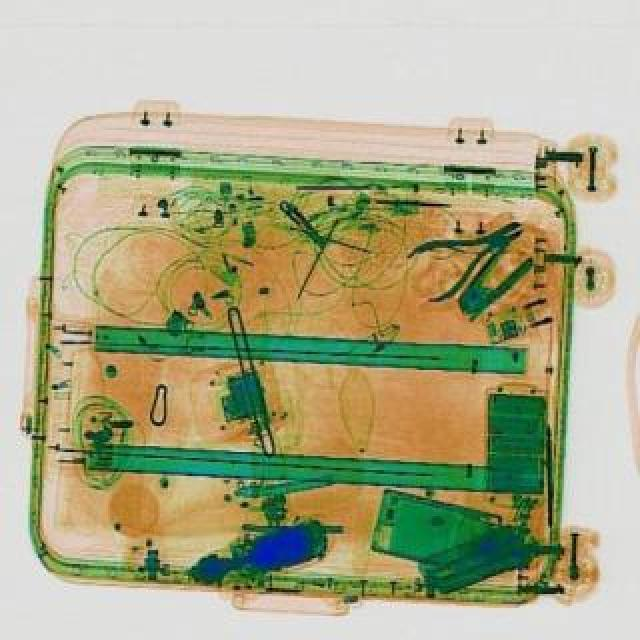wrench: (398, 200, 538, 304)
